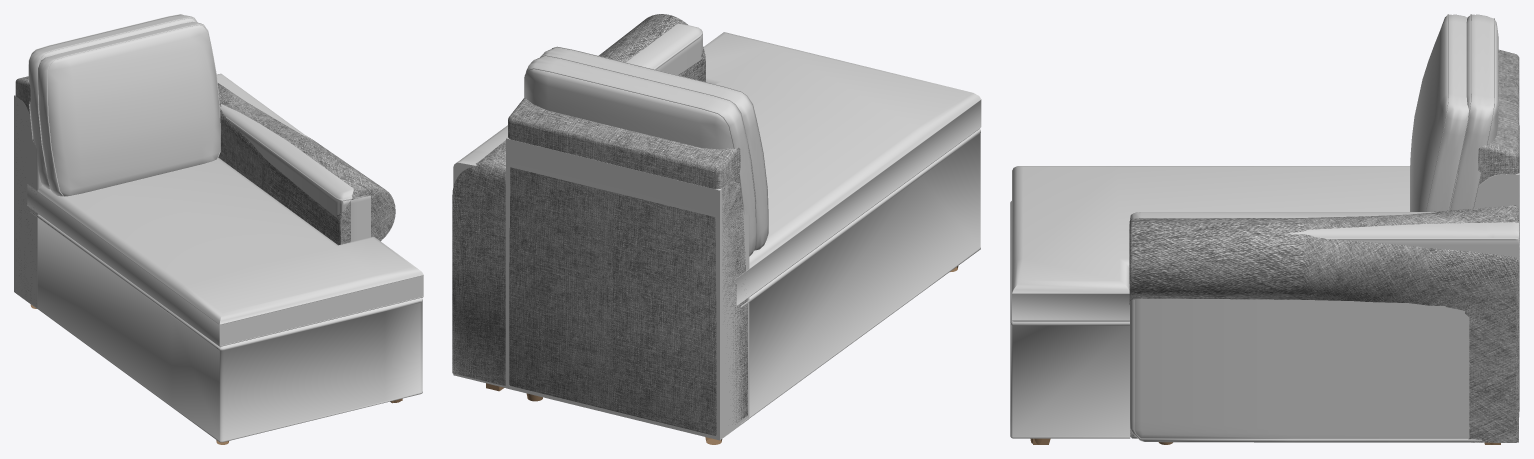
The model's file is chaiseL.gltf.
3 renders of one model, left to right at view 1: azimuth 30°, elevation 25°; view 2: azimuth 150°, elevation 25°; view 3: azimuth 270°, elevation 25°, orthographic. The views are drawn at different scales.
Visible parts, largest first — view 1: ChaiseSeatL, BottomL, pillow (×2), ArmrestR, c_armrestL, back.1, Sweep (×2), Back2; view 2: Back2, ChaiseSeatL, BottomL, pillow (×2), back.1, ArmrestR, c_armrestL, Sweep (×2); view 3: c_armrestL, ArmrestR, ChaiseSeatL, BottomL, pillow (×2), Back2, back.1.
Boxes of the visible parts, bbox=[...] form: ChaiseSeatL: bbox=[27, 158, 423, 346]; BottomL: bbox=[30, 210, 422, 442]; pillow (×2): bbox=[28, 14, 219, 196]; ArmrestR: bbox=[217, 83, 395, 245]; c_armrestL: bbox=[216, 73, 370, 241]; back.1: bbox=[14, 95, 42, 308]; Sweep (×2): bbox=[28, 14, 220, 196]; Back2: bbox=[15, 76, 32, 300]; Back2: bbox=[508, 98, 747, 435]; ChaiseSeatL: bbox=[703, 32, 981, 305]; BottomL: bbox=[740, 129, 980, 424]; pillow (×2): bbox=[525, 47, 767, 256]; back.1: bbox=[506, 137, 749, 440]; ArmrestR: bbox=[452, 14, 705, 385]; c_armrestL: bbox=[453, 23, 702, 387]; Sweep (×2): bbox=[524, 46, 768, 250]; c_armrestL: bbox=[1129, 212, 1518, 442]; ArmrestR: bbox=[1129, 205, 1518, 442]; ChaiseSeatL: bbox=[1012, 166, 1409, 321]; BottomL: bbox=[1010, 201, 1130, 438]; pillow (×2): bbox=[1410, 14, 1498, 211]; Back2: bbox=[1478, 49, 1519, 411]; back.1: bbox=[1474, 173, 1519, 416].
Size of the model in its own units: 0.8142 by 0.9082 by 1.3.
4 materials, 1 textured.
